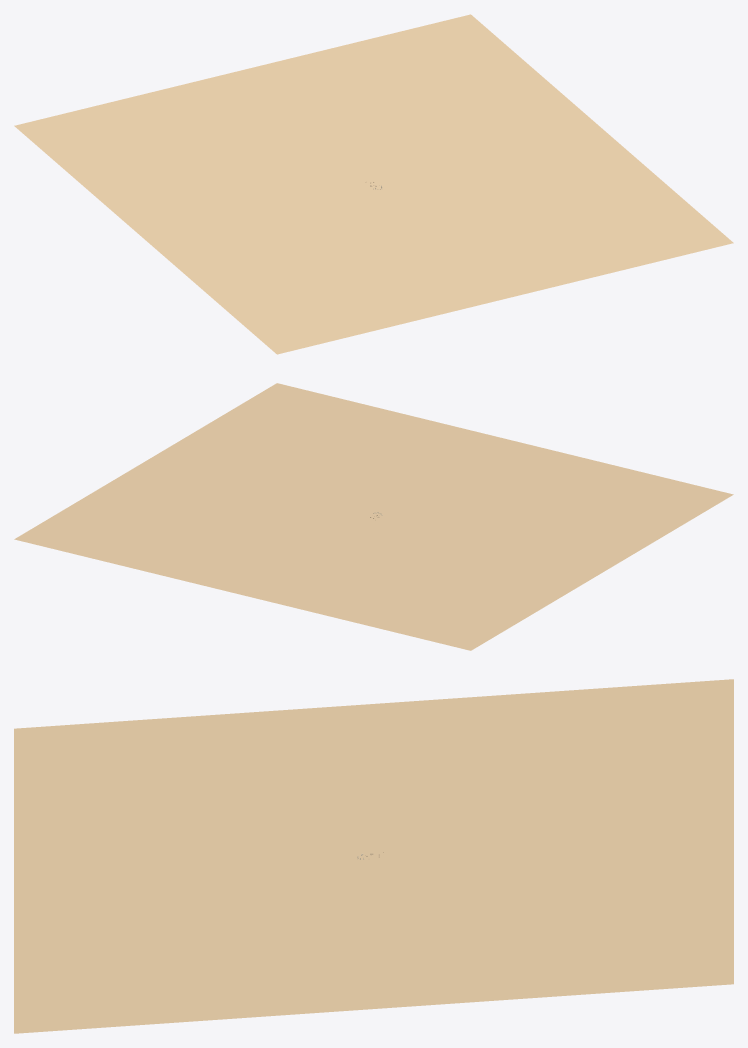
3 renders of one model, top to bottom at view 1: azimuth 30°, elevation 25°; view 2: azimuth 150°, elevation 25°; view 3: azimuth 270°, elevation 25°, orthographic. The views are drawn at different scales.
Parts seen in each view (by area): view 1: Fog; view 2: Fog; view 3: Fog.
Boxes of the visible parts, x1=… form: Fog: x1=14, y1=14, x2=733, y2=354; Fog: x1=14, y1=383, x2=733, y2=650; Fog: x1=14, y1=679, x2=733, y2=1033.
Bounding box in the file's own units: 1000 × 75.67 × 997.
